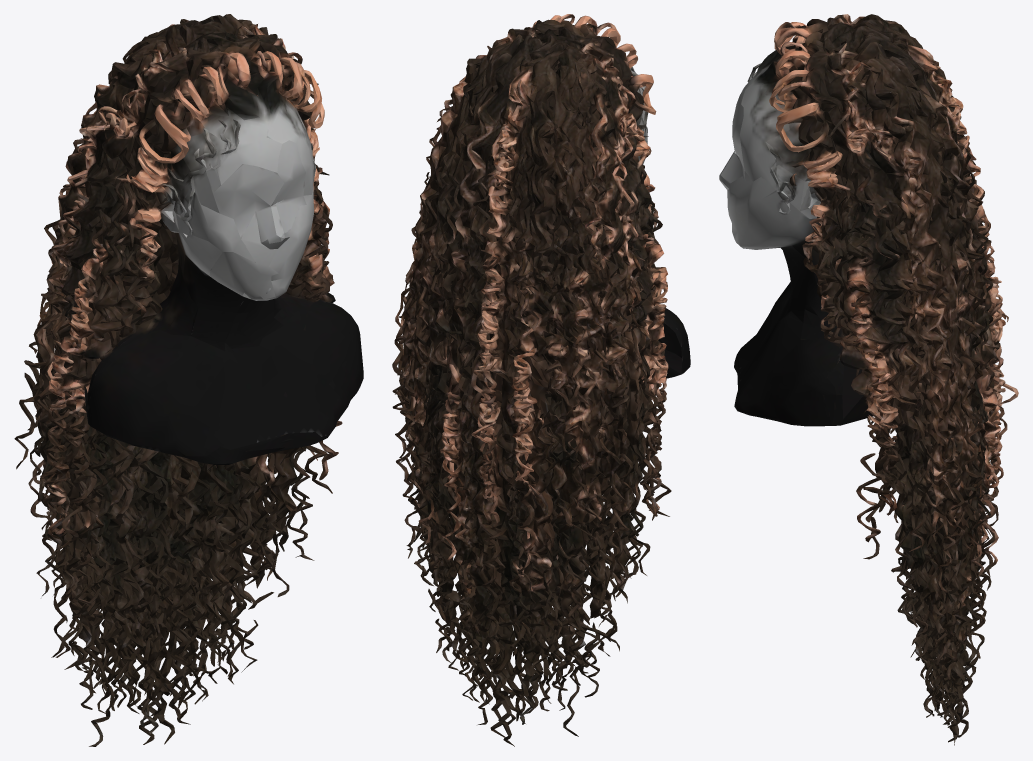
3 renders of one model, left to right at view 1: azimuth 30°, elevation 25°; view 2: azimuth 150°, elevation 25°; view 3: azimuth 270°, elevation 25°, orthographic. The views are drawn at different scales.
Parts seen in each view (by area): view 1: Mesh_0; view 2: Mesh_0; view 3: Mesh_0.
Boxes of the visible parts, x1,y1,x2,y2 form: Mesh_0: (14, 14, 363, 746); Mesh_0: (392, 14, 690, 746); Mesh_0: (719, 14, 1018, 745).
Size of the model in its own units: 0.7658 by 1.9 by 0.7234.
1 material, 1 textured.
